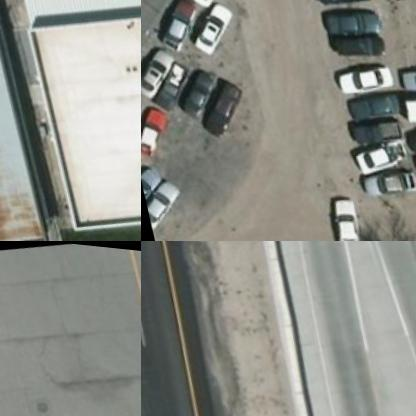car: (196, 76, 245, 134), (173, 60, 222, 118), (147, 54, 196, 112), (189, 0, 238, 56), (324, 185, 370, 240), (154, 0, 203, 51), (141, 41, 183, 100), (341, 74, 400, 116), (352, 128, 410, 170), (336, 50, 395, 91), (359, 157, 415, 199), (346, 102, 407, 140), (320, 0, 383, 35), (141, 176, 182, 229), (141, 103, 175, 162), (141, 154, 163, 204), (394, 43, 415, 88), (400, 109, 415, 151)
